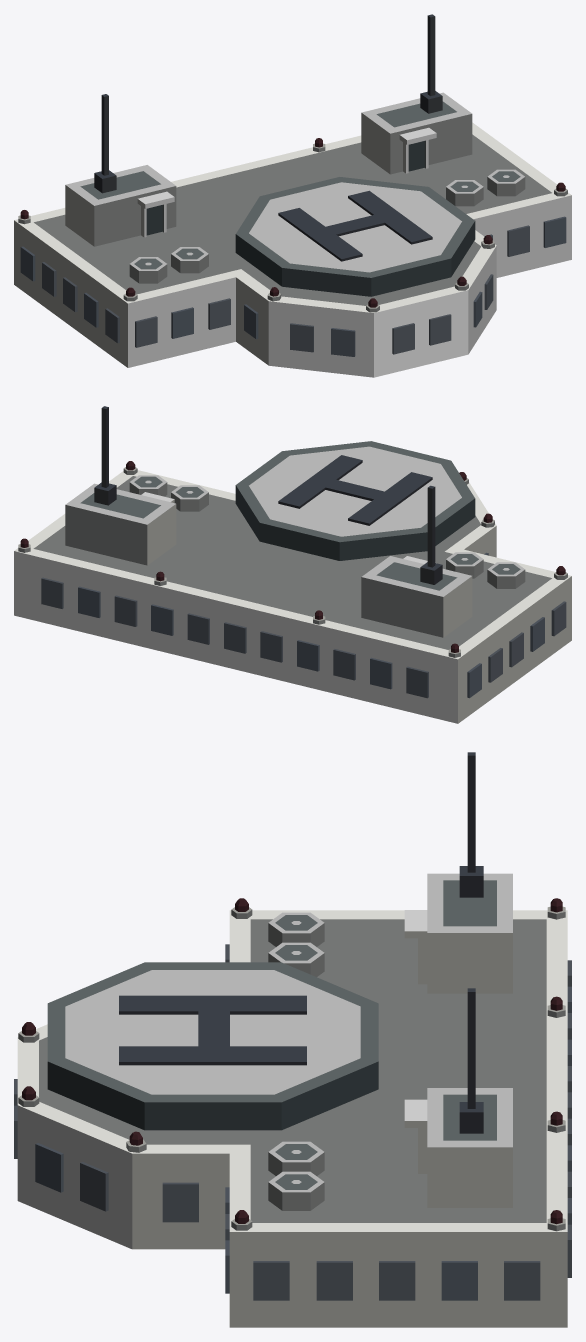
The model's file is TB_CITY_Skysc_O_Top_Gray.FBX.
The picture shows the model from 3 angles, top to bottom: view 1: azimuth 30°, elevation 25°; view 2: azimuth 150°, elevation 25°; view 3: azimuth 270°, elevation 25°; orthographic projection. The views are drawn at different scales.
Parts seen in each view (by area): view 1: TB_CITY_Skysc_O_Top_Gray; view 2: TB_CITY_Skysc_O_Top_Gray; view 3: TB_CITY_Skysc_O_Top_Gray.
Boxes of the visible parts, x1,y1,x2,y2 form: TB_CITY_Skysc_O_Top_Gray: (14, 14, 571, 377); TB_CITY_Skysc_O_Top_Gray: (14, 406, 571, 723); TB_CITY_Skysc_O_Top_Gray: (14, 752, 571, 1327).
Bounding box in the file's own units: 36.39 × 15.39 × 26.39.
